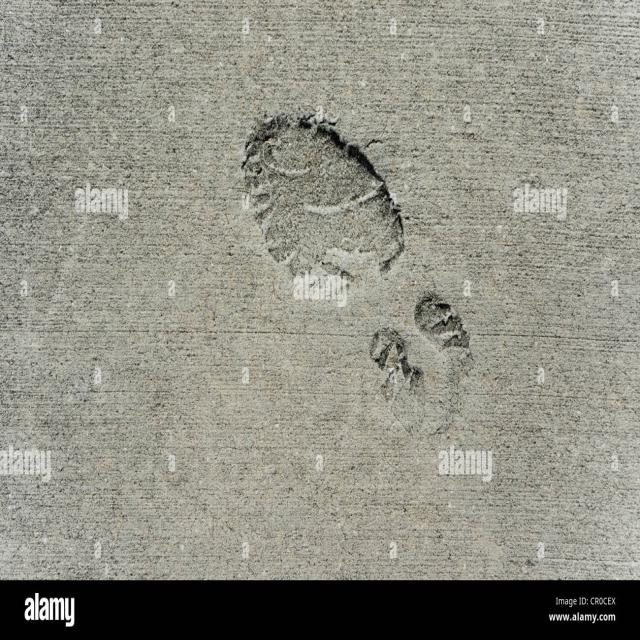human_foot_print: (142, 53, 506, 433)
